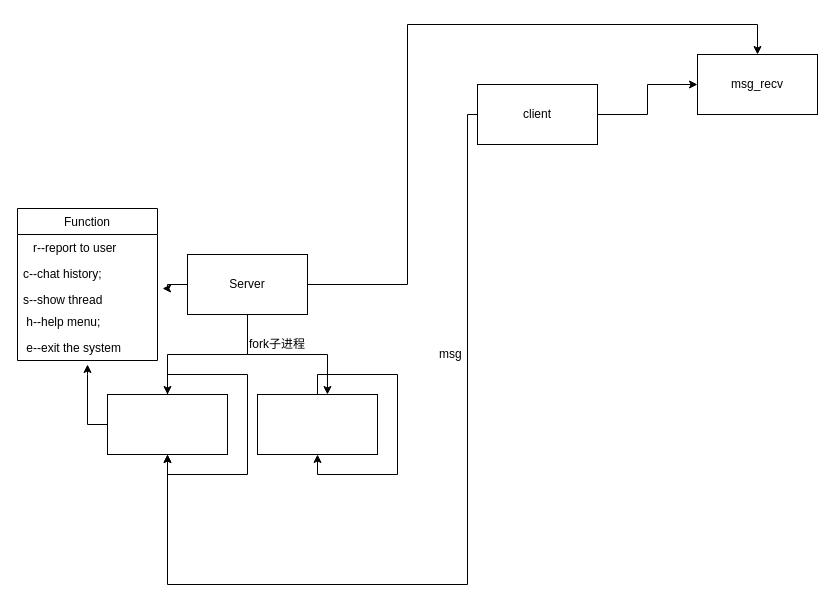
The diagram is 835 pixels wide and 610 high, and some of its shapes have lost their labels. Here are the shapes that lost their labels. From the top down, the centre of each, then its label:
(167,424): msg_cntl
(317,424): menu
